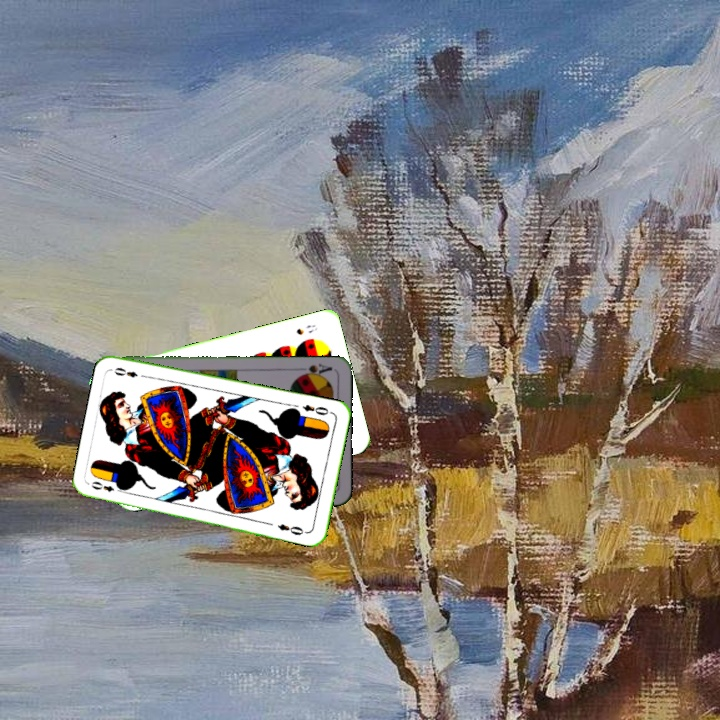EO: (298, 401, 331, 418), (87, 478, 117, 494)
S8: (292, 320, 320, 337)
SA: (295, 360, 335, 380)
